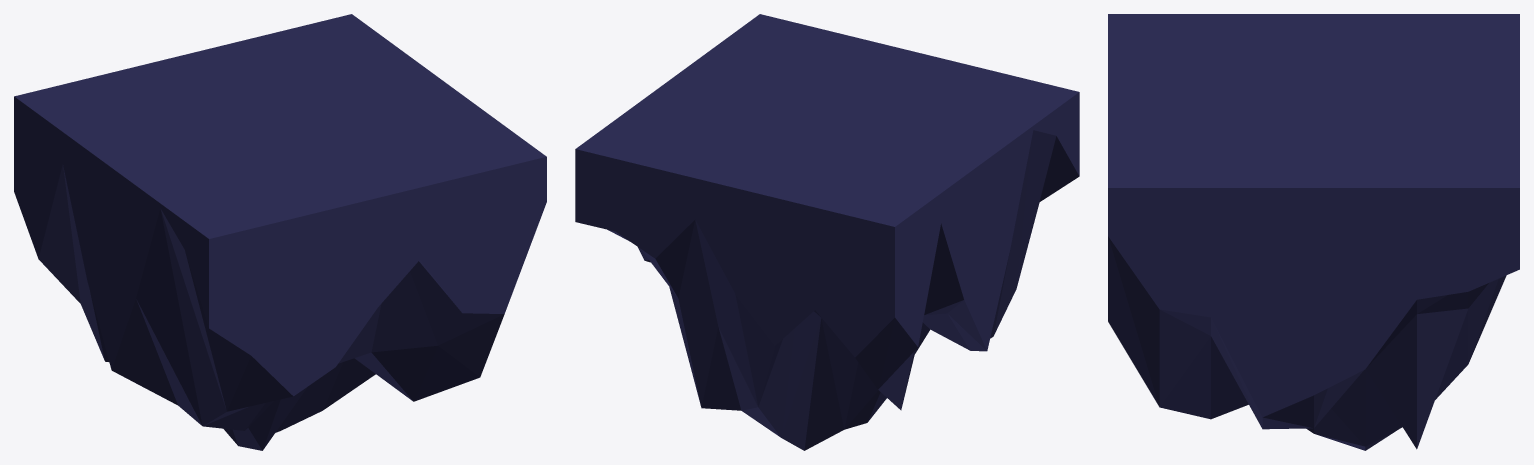
File: Floortile2.fbx
The picture shows the model from 3 angles, left to right: view 1: azimuth 30°, elevation 25°; view 2: azimuth 150°, elevation 25°; view 3: azimuth 270°, elevation 25°; orthographic projection. The views are drawn at different scales.
Visible parts, largest first — view 1: Box007; view 2: Box007; view 3: Box007.
Part boxes in pixels (x1,y1,x2,y2): Box007: (14, 14, 546, 450); Box007: (575, 14, 1079, 450); Box007: (1108, 14, 1519, 450).
Bounding box in the file's own units: 100 × 100 × 93.76.
